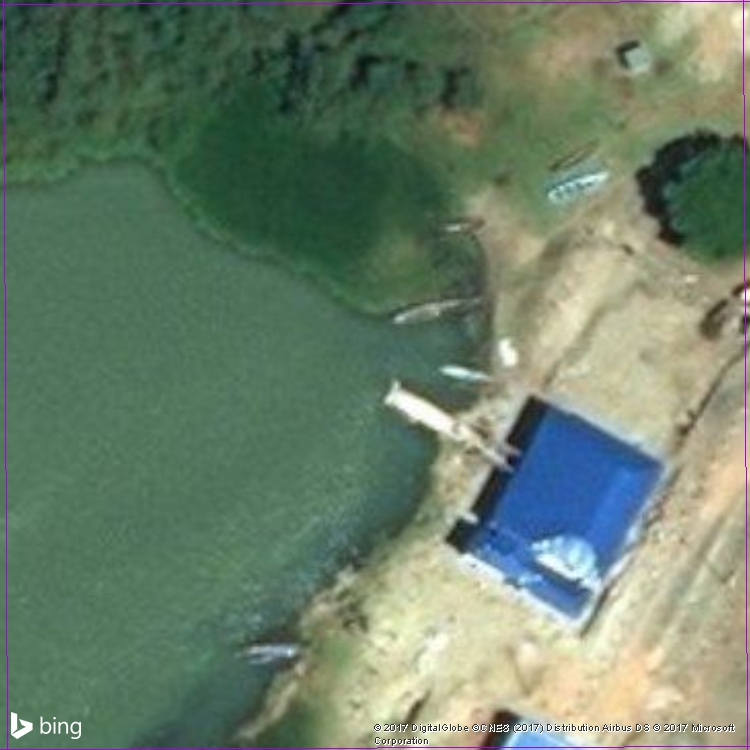boat: (381, 292, 493, 331), (544, 129, 607, 180), (535, 168, 616, 207), (230, 634, 313, 666), (423, 205, 490, 243), (432, 361, 502, 390)
